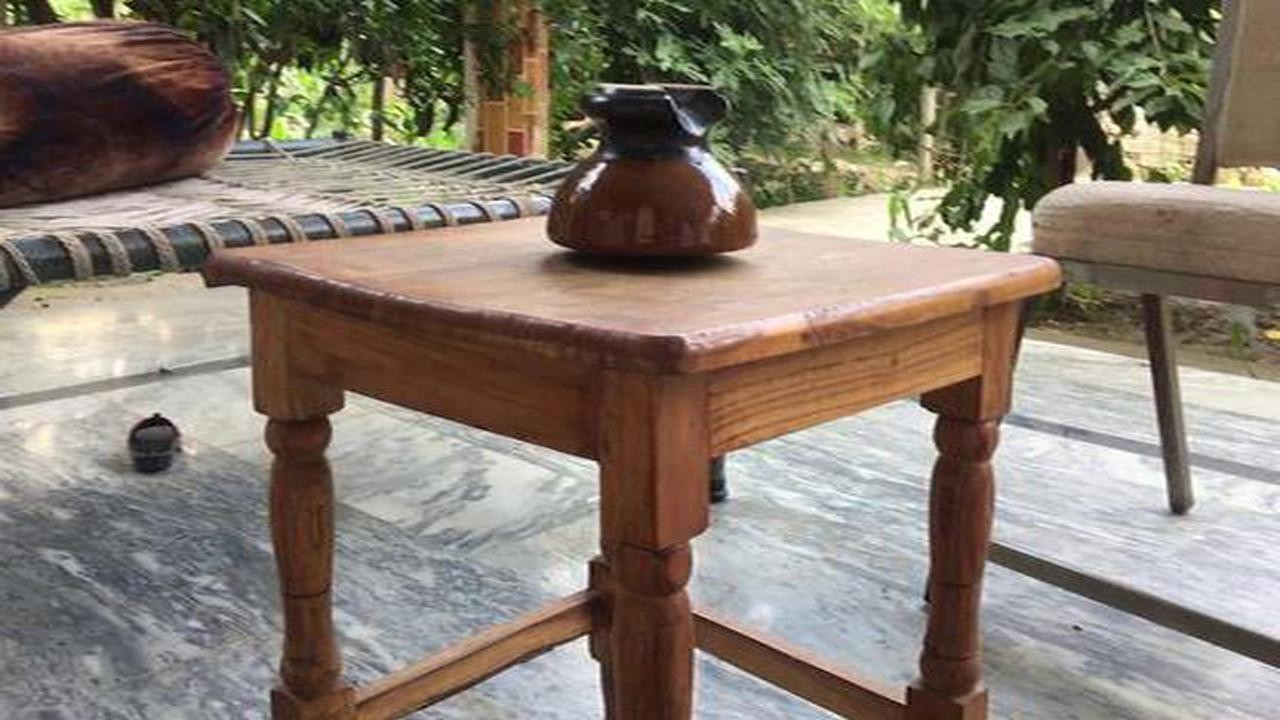insulator_pin: (533, 71, 773, 274)
